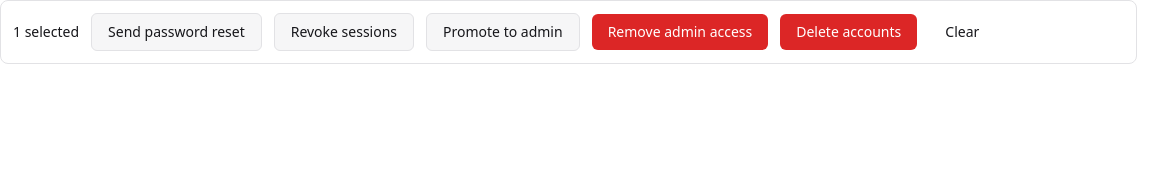
UserBulkActions › revokes sessions without confirming
This screenshot has width=1152, height=183.
Expected: the text "1 selected" is shown, top-left (13, 22), bottom-right (79, 42)
Click the button "Revoke sessions": (344, 32) top-left (274, 13), bottom-right (414, 51)
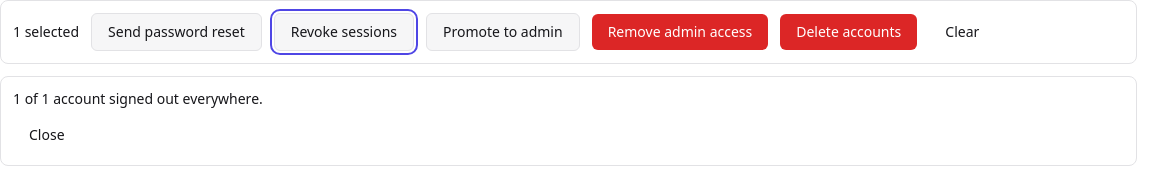
Expected: the text "1 of 1 account signed out everywhere." is shown, top-left (13, 89), bottom-right (263, 108)
